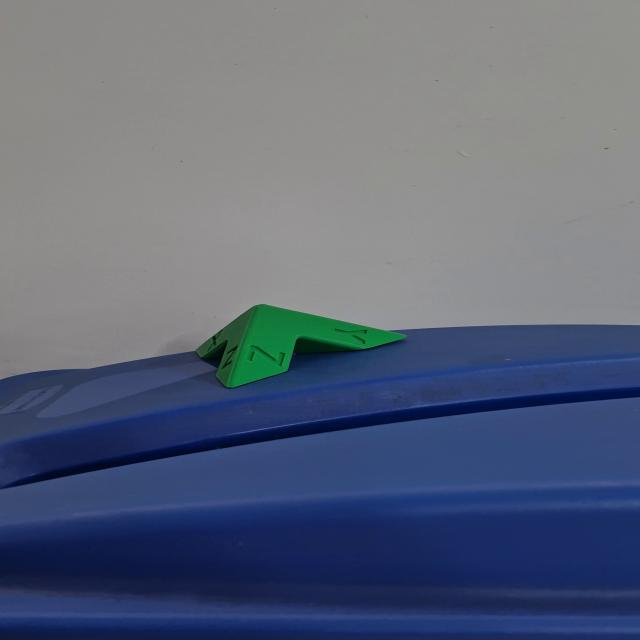objects: (193, 302, 410, 390)
